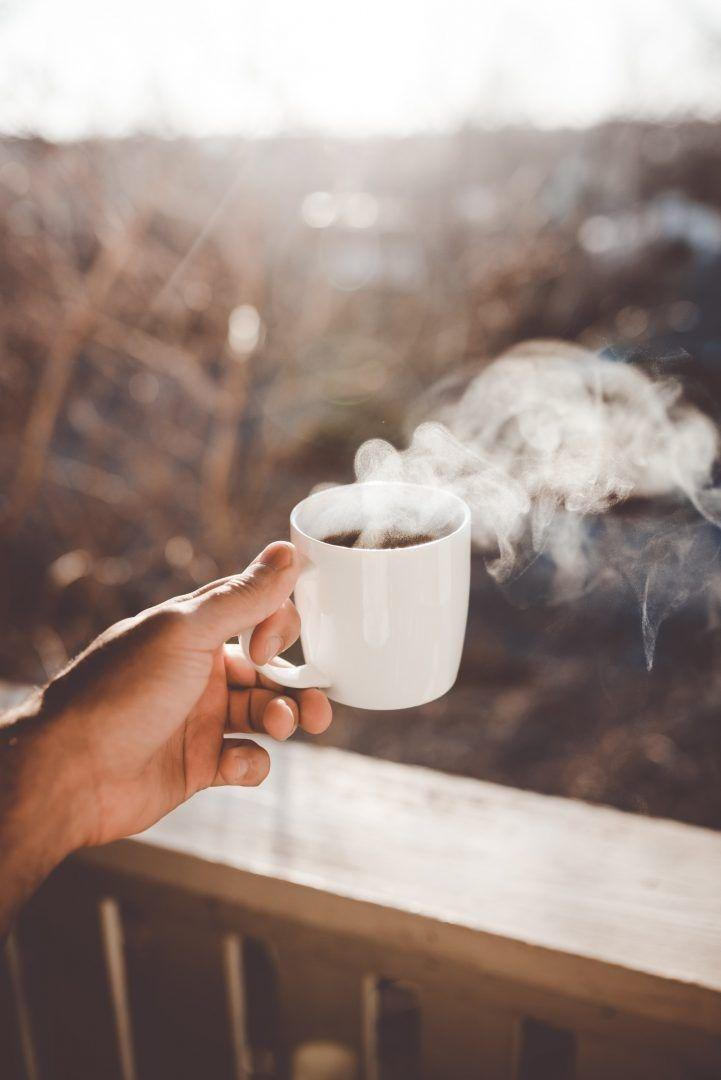cup-handle: (240, 480, 473, 713)
